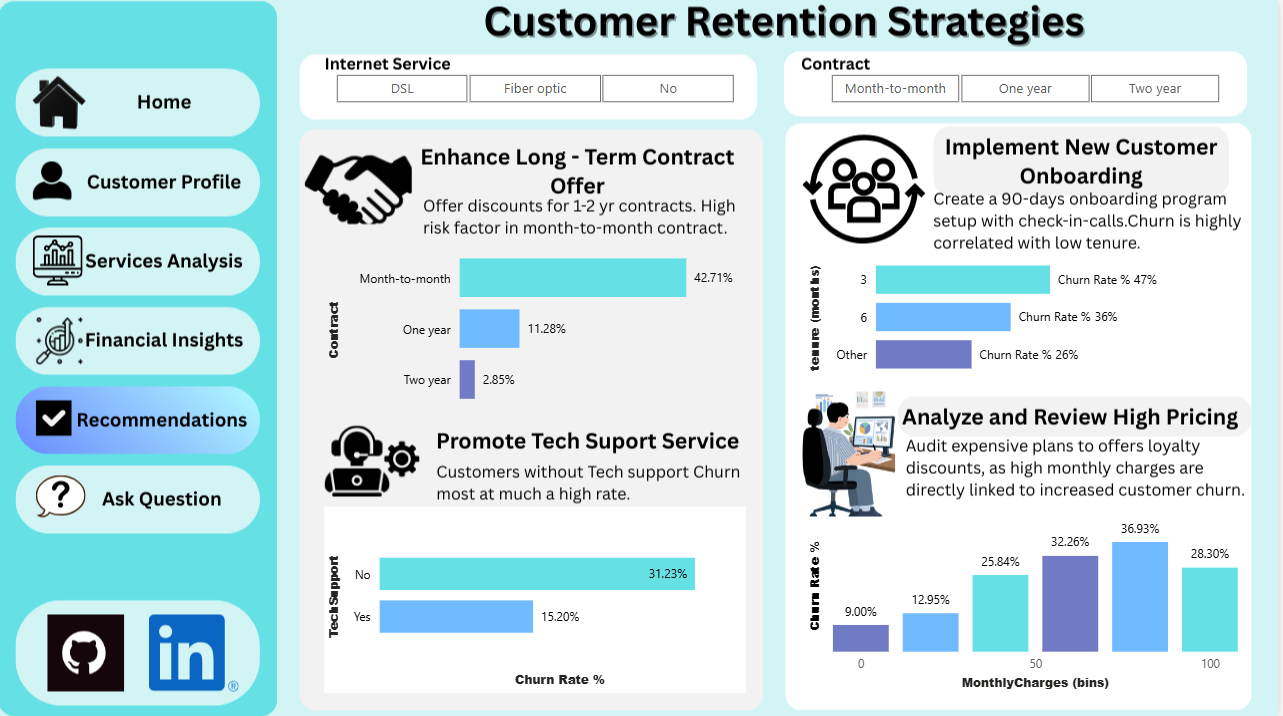

The dashboard page shown, as its layout file describes it:
{"tool":"powerbi","page":{"name":"Recommendationn","canvas":[1280,720],"ordinal":4},"visuals":[{"type":"clusteredBarChart","fields":{"Y":["telecom_churn_project churn_data.Churn Rate %"],"Category":["telecom_churn_project churn_data.Contract"]},"box":[326.2,226.2,420,201.2],"z":0},{"type":"clusteredBarChart","fields":{"Y":["telecom_churn_project churn_data.Churn Rate %"],"Category":["telecom_churn_project churn_data.TechSupport"]},"box":[326.2,507.5,421.2,186.2],"z":1000},{"type":"clusteredColumnChart","fields":{"Y":["telecom_churn_project churn_data.Churn Rate %"],"Category":["telecom_churn_project churn_data.MonthlyCharges (bins)"]},"box":[807.5,507.5,437.5,190],"z":2000},{"type":"clusteredBarChart","fields":{"Y":["telecom_churn_project churn_data.Churn Rate %"],"Category":["telecom_churn_project churn_data.tenure (groups)"]},"box":[807.5,238.8,446.2,152.5],"z":3000},{"type":"slicer","fields":{"Values":["telecom_churn_project churn_data.InternetService"]},"box":[312.5,68.8,447.5,41.2],"z":4000},{"type":"slicer","fields":{"Values":["telecom_churn_project churn_data.Contract"]},"box":[807.5,68.8,437.5,41.2],"z":5000},{"type":"actionButton","box":[32.5,467.5,203.8,65],"z":6000},{"type":"actionButton","box":[32.5,315,215,57.5],"z":7000},{"type":"actionButton","box":[40,155,207.5,57.5],"z":8000},{"type":"actionButton","box":[32.5,238.8,215,50],"z":9000},{"type":"actionButton","box":[32.5,70,203.8,66.2],"z":10000},{"type":"actionButton","box":[150,612.5,90,83.8],"z":11000},{"type":"actionButton","box":[46.2,612.5,81.2,83.8],"z":12000}]}

Visuals, with their boxes in screenshot pixels (x1, y1, x2, y2), scaled from the page's 1280x720 canvas onto the 1283x716 screenshot:
clusteredBarChart - telecom_churn_project churn_data.Churn Rate % x telecom_churn_project churn_data.Contract: [327,225,748,425]
clusteredBarChart - telecom_churn_project churn_data.Churn Rate % x telecom_churn_project churn_data.TechSupport: [327,505,749,690]
clusteredColumnChart - telecom_churn_project churn_data.Churn Rate % x telecom_churn_project churn_data.MonthlyCharges (bins): [809,505,1248,694]
clusteredBarChart - telecom_churn_project churn_data.Churn Rate % x telecom_churn_project churn_data.tenure (groups): [809,237,1257,389]
slicer - telecom_churn_project churn_data.InternetService: [313,68,762,109]
slicer - telecom_churn_project churn_data.Contract: [809,68,1248,109]
actionButton: [33,465,237,530]
actionButton: [33,313,248,370]
actionButton: [40,154,248,211]
actionButton: [33,237,248,287]
actionButton: [33,70,237,135]
actionButton: [150,609,241,692]
actionButton: [46,609,128,692]
